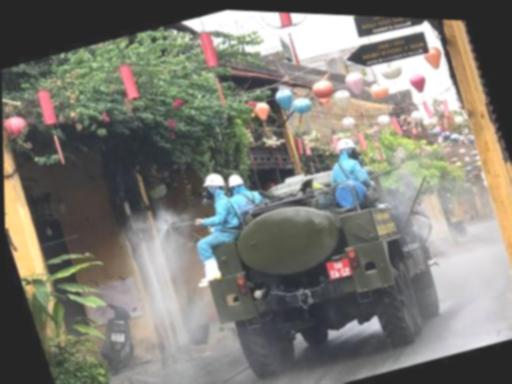License_Plate: (325, 256, 351, 283)
